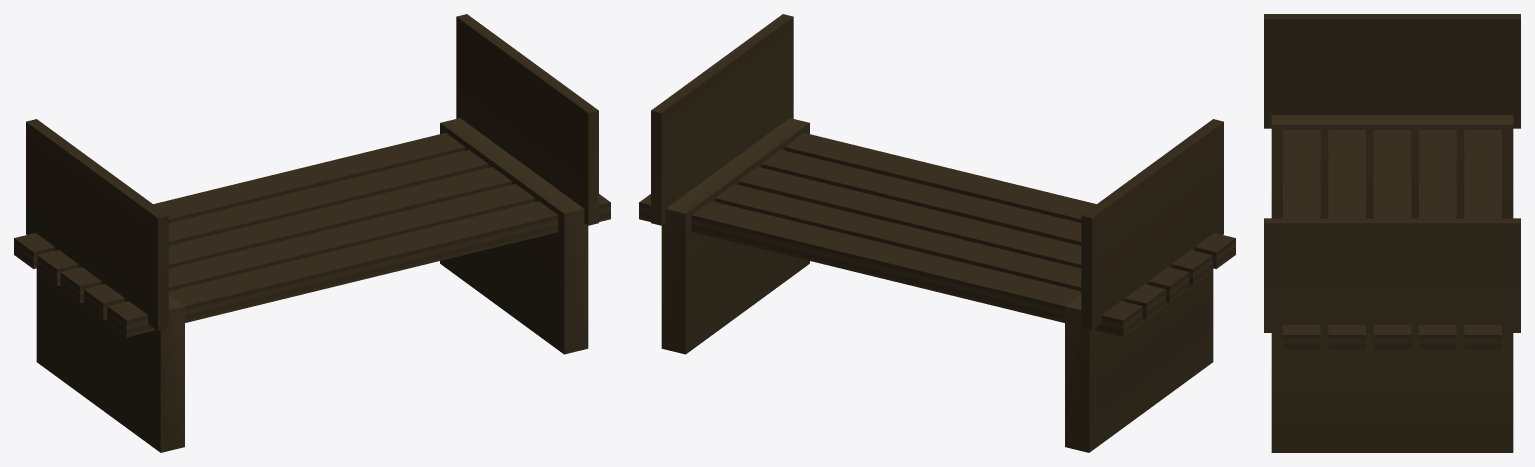
The model's file is env_timber_roadblock_a.glb.
The picture shows the model from 3 angles, left to right: view 1: azimuth 30°, elevation 25°; view 2: azimuth 150°, elevation 25°; view 3: azimuth 270°, elevation 25°; orthographic projection. The views are drawn at different scales.
Visible parts, largest first — view 1: env_timber_roadblock_a; view 2: env_timber_roadblock_a; view 3: env_timber_roadblock_a.
Part boxes in pixels (x1,y1,x2,y2): env_timber_roadblock_a: [14, 14, 610, 452]; env_timber_roadblock_a: [639, 14, 1235, 452]; env_timber_roadblock_a: [1264, 14, 1520, 452].
Size of the model in its own units: 3.6 by 1.7 by 1.7.
1 material, 1 textured.
